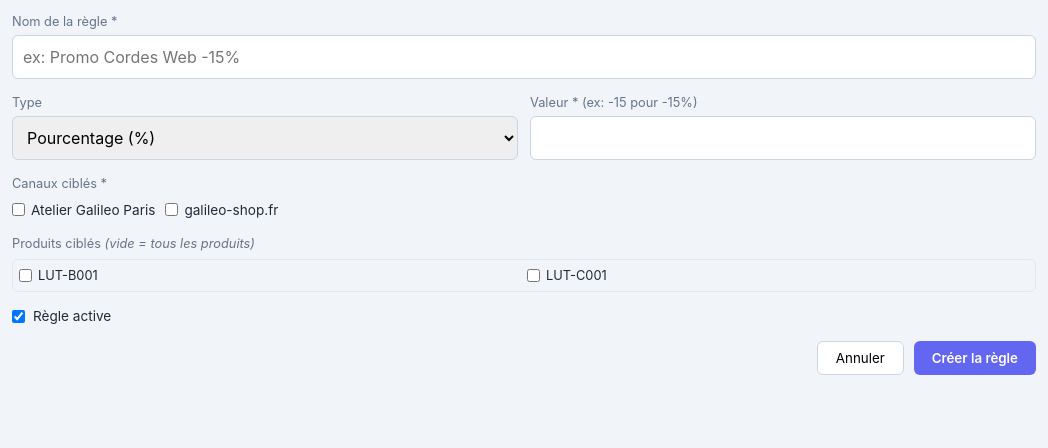
it: RuleForm › affiche le preview quand une valeur est saisie
Type "-15" into the number field.
click(783, 138); type("-15")  # box x1=530 y1=116 x2=1036 y2=160
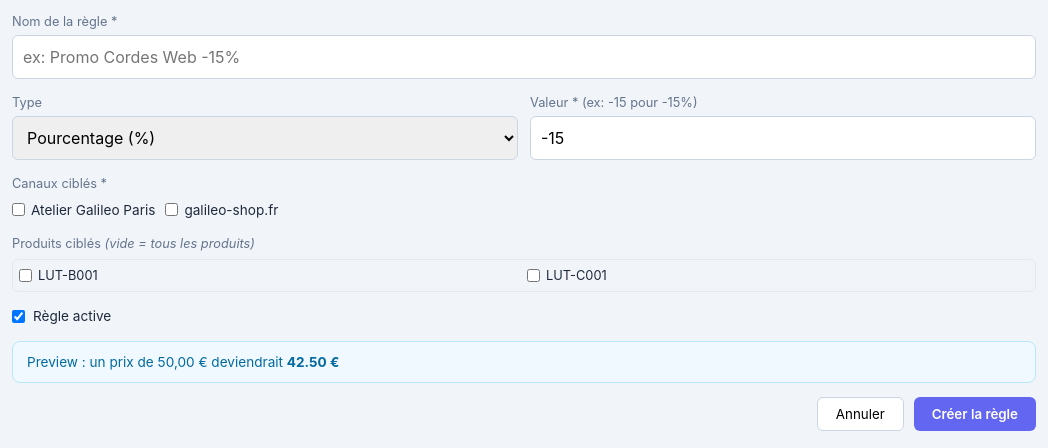
Result: the text "Preview : un prix de 50,00 € deviendrait 42.50 €" is shown at x1=12 y1=341 x2=1036 y2=383
